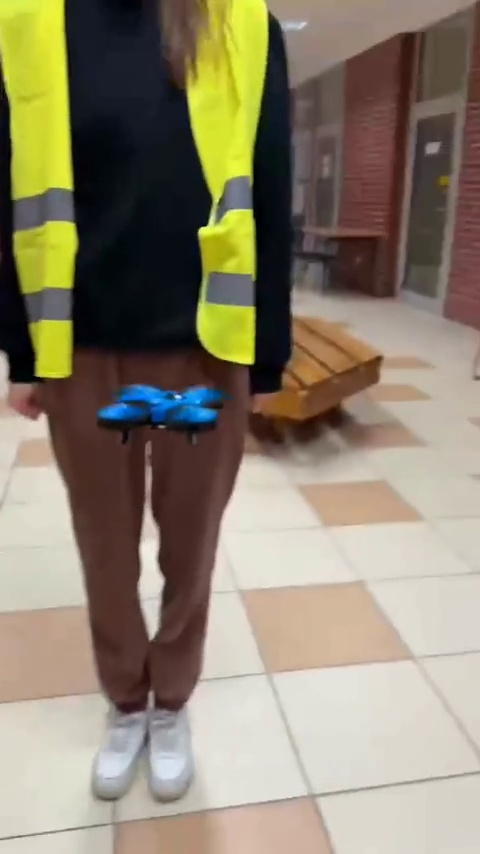drone: (98, 385, 224, 445)
vest: (5, 64, 288, 820)
